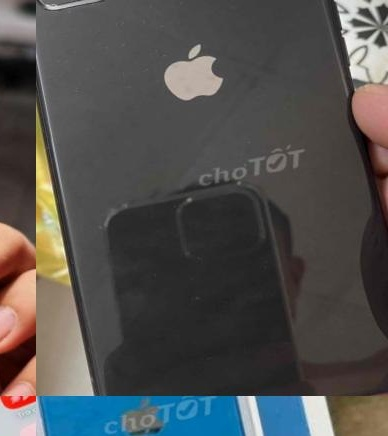scratch: (36, 29, 187, 104), (36, 0, 134, 56), (130, 0, 308, 29)
